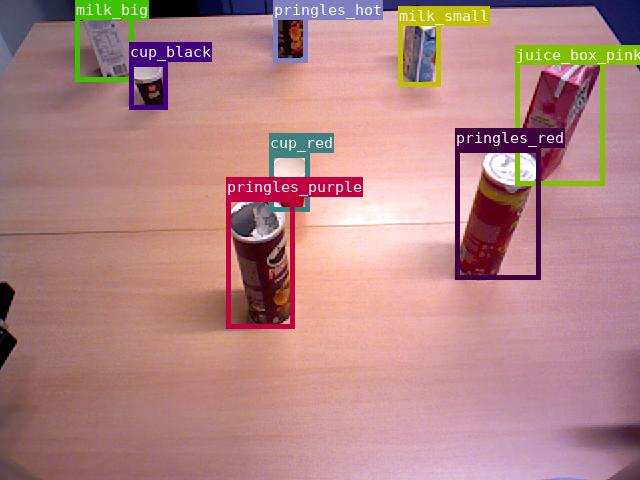cup_black: (129, 62, 167, 109)
cup_red: (269, 153, 309, 211)
juice_box_pink: (515, 45, 604, 185)
milk_big: (75, 0, 133, 81)
milk_small: (398, 6, 440, 86)
pringles_hot: (273, 0, 307, 62)
pringles_purple: (226, 197, 294, 328)
pringles_red: (455, 148, 540, 279)
